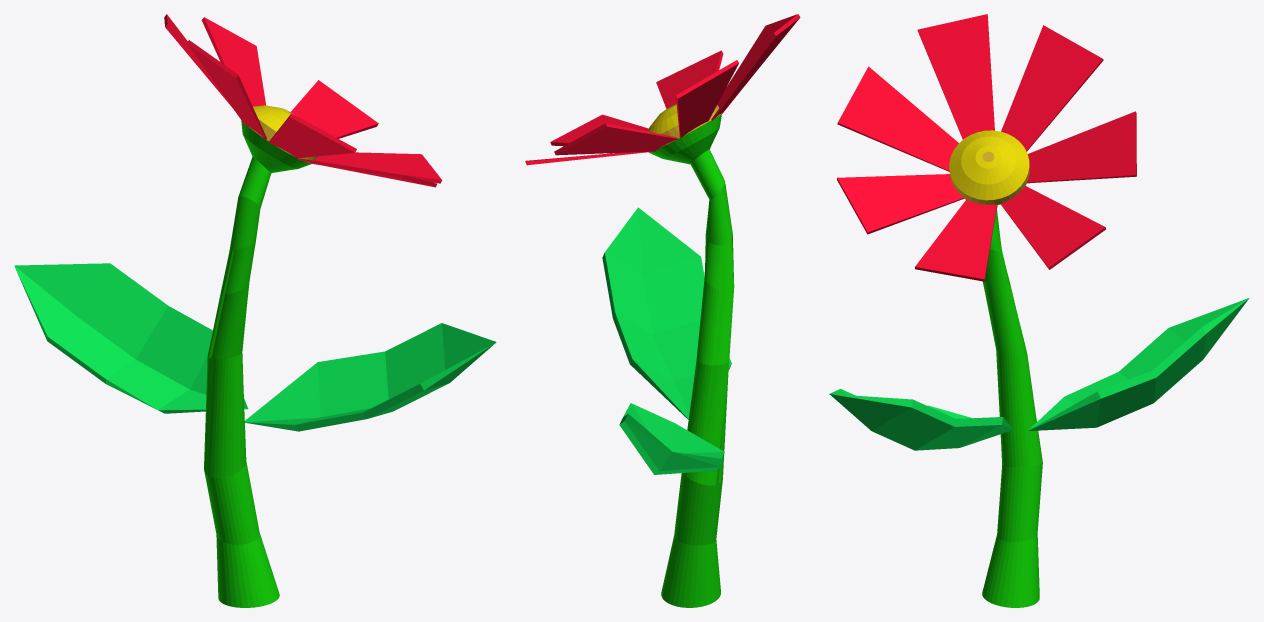
The model's file is RW_flower_standard.fbx.
3 views of the same model, side by side, from view 1: azimuth 30°, elevation 25°; view 2: azimuth 150°, elevation 25°; view 3: azimuth 270°, elevation 25° (orthographic). The views are drawn at different scales.
Visible parts, largest first — view 1: Circle.021; view 2: Circle.021; view 3: Circle.021.
Boxes of the visible parts, x1,y1,x2,y2 form: Circle.021: (14,14,496,607); Circle.021: (525,14,800,607); Circle.021: (829,14,1249,607).
Bounding box in the file's own units: 0.7273 × 1.47 × 1.02.
